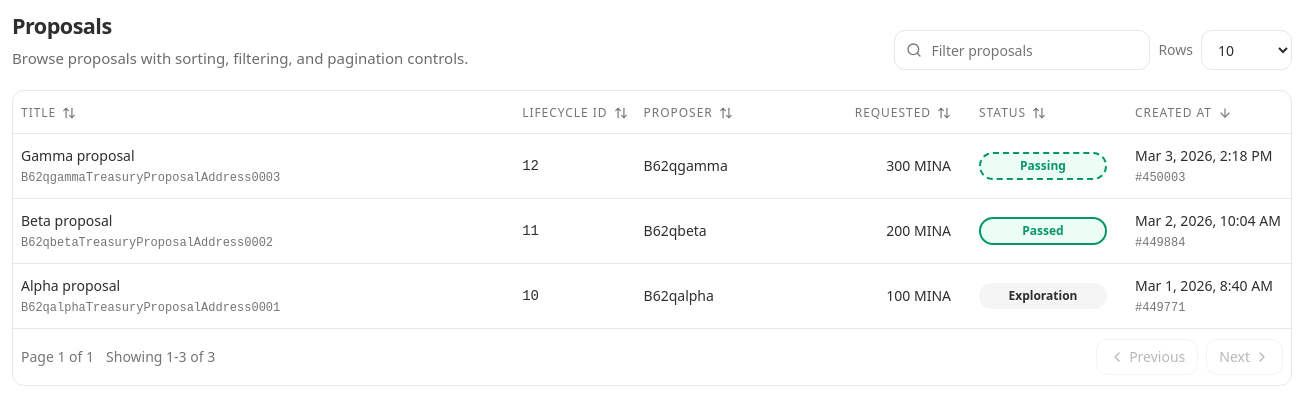
TreasuryProposalsTable › filters rows by search query
This screenshot has width=1304, height=403.
Type "beta" into the field labelled "Filter proposals".
click(1022, 50); type("beta")  # box [894,30,1150,70]
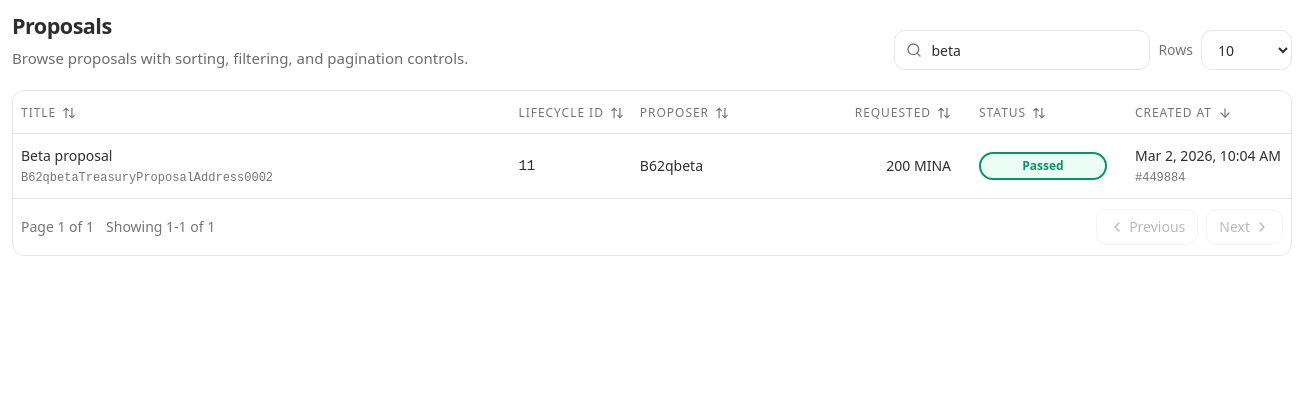
Expected: the text "Beta proposal" is shown, [21,146,112,164]
Now the text "Gamma proposal" is gone
Now the text "Showing 1-1 of 1" is shown, box [106,216,215,236]
